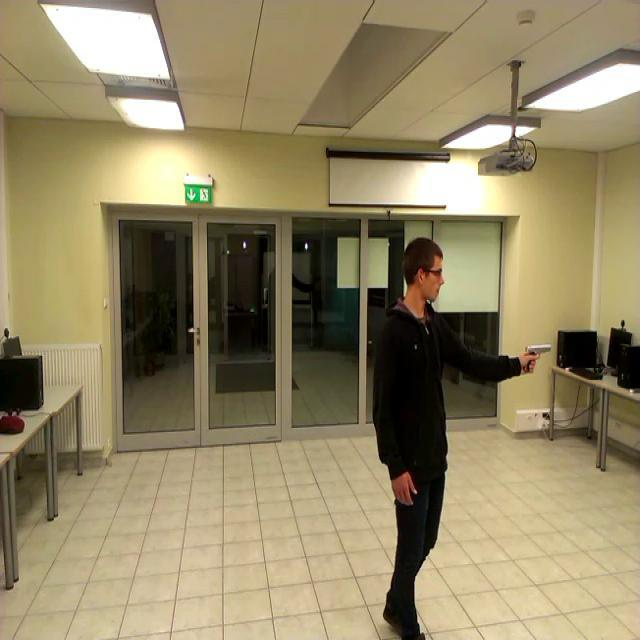Gun: (524, 343, 552, 372)
